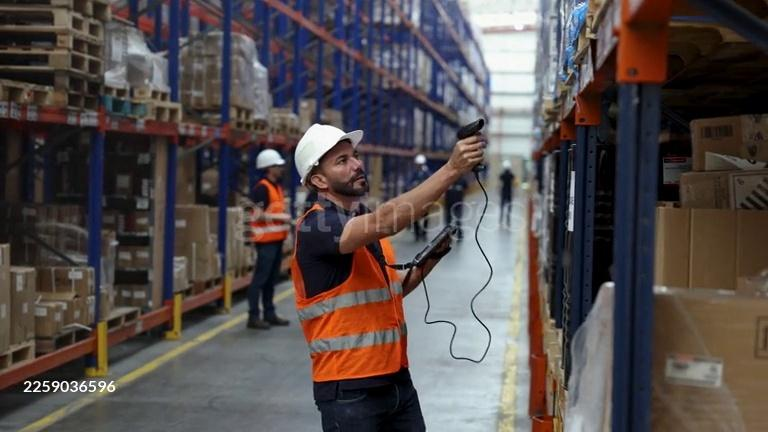helmet: (293, 124, 364, 187), (255, 149, 287, 169)
person: (290, 124, 489, 432), (239, 149, 300, 329), (410, 154, 429, 238), (500, 167, 514, 214)
